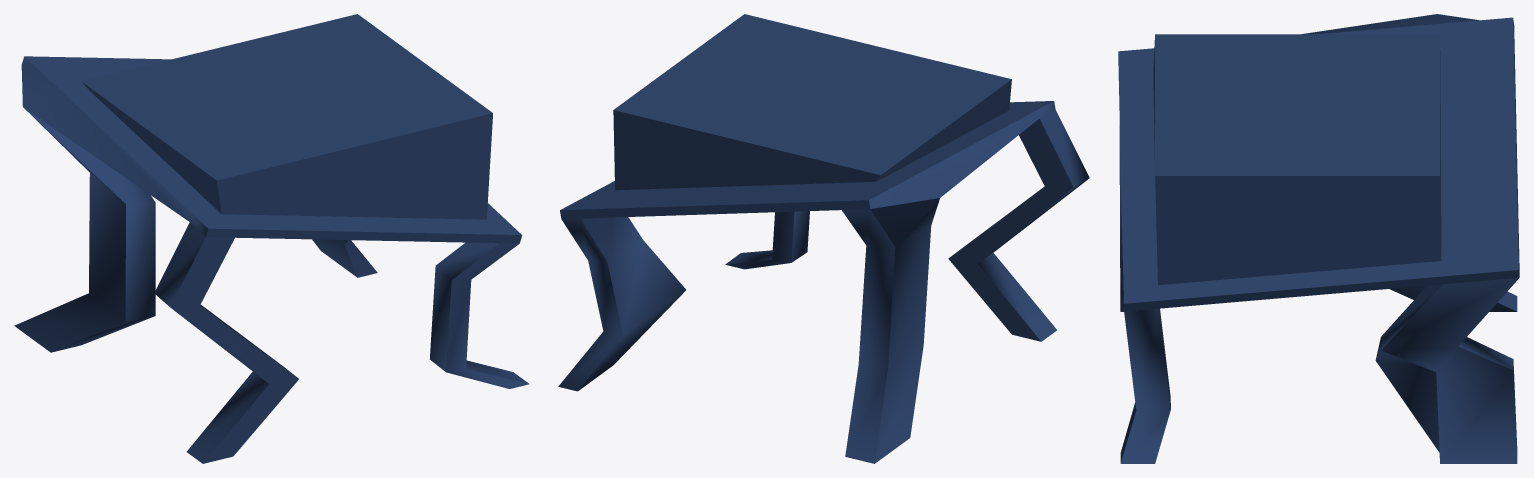
The model's file is Nightstand.fbx.
3 renders of one model, left to right at view 1: azimuth 30°, elevation 25°; view 2: azimuth 150°, elevation 25°; view 3: azimuth 270°, elevation 25°, orthographic. The views are drawn at different scales.
Parts seen in each view (by area): view 1: pCube1; view 2: pCube1; view 3: pCube1.
Part boxes in pixels (x1,y1,x2,y2): pCube1: [14, 14, 529, 463]; pCube1: [558, 14, 1089, 463]; pCube1: [1118, 14, 1519, 463].
Size of the model in its own units: 8.25 by 5.89 by 7.58.
